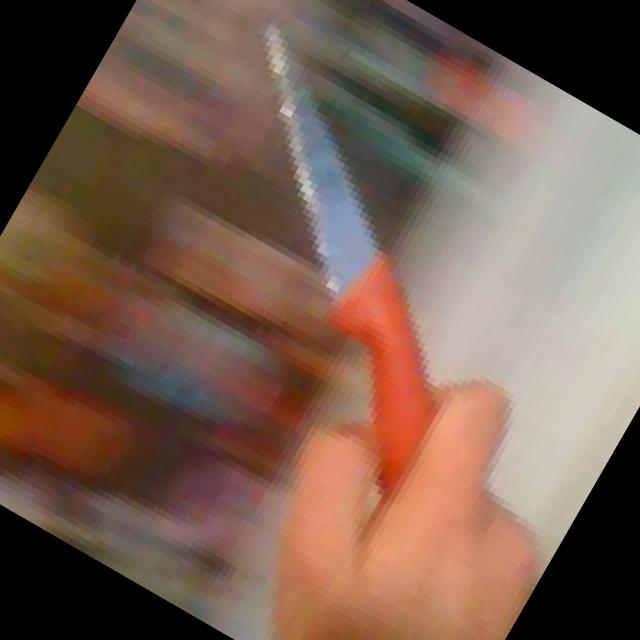knife: (54, 0, 637, 558)
